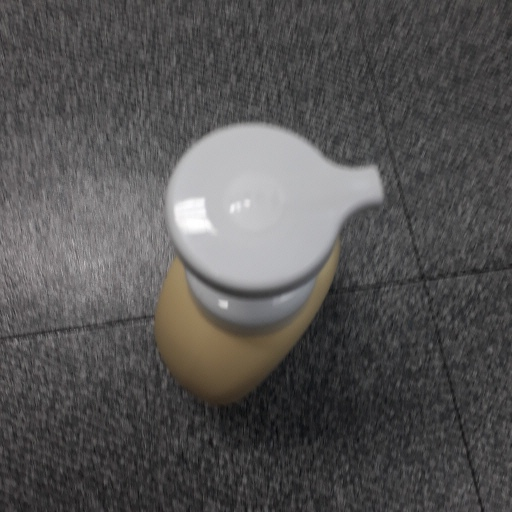Plastic_3: (154, 121, 384, 416)
